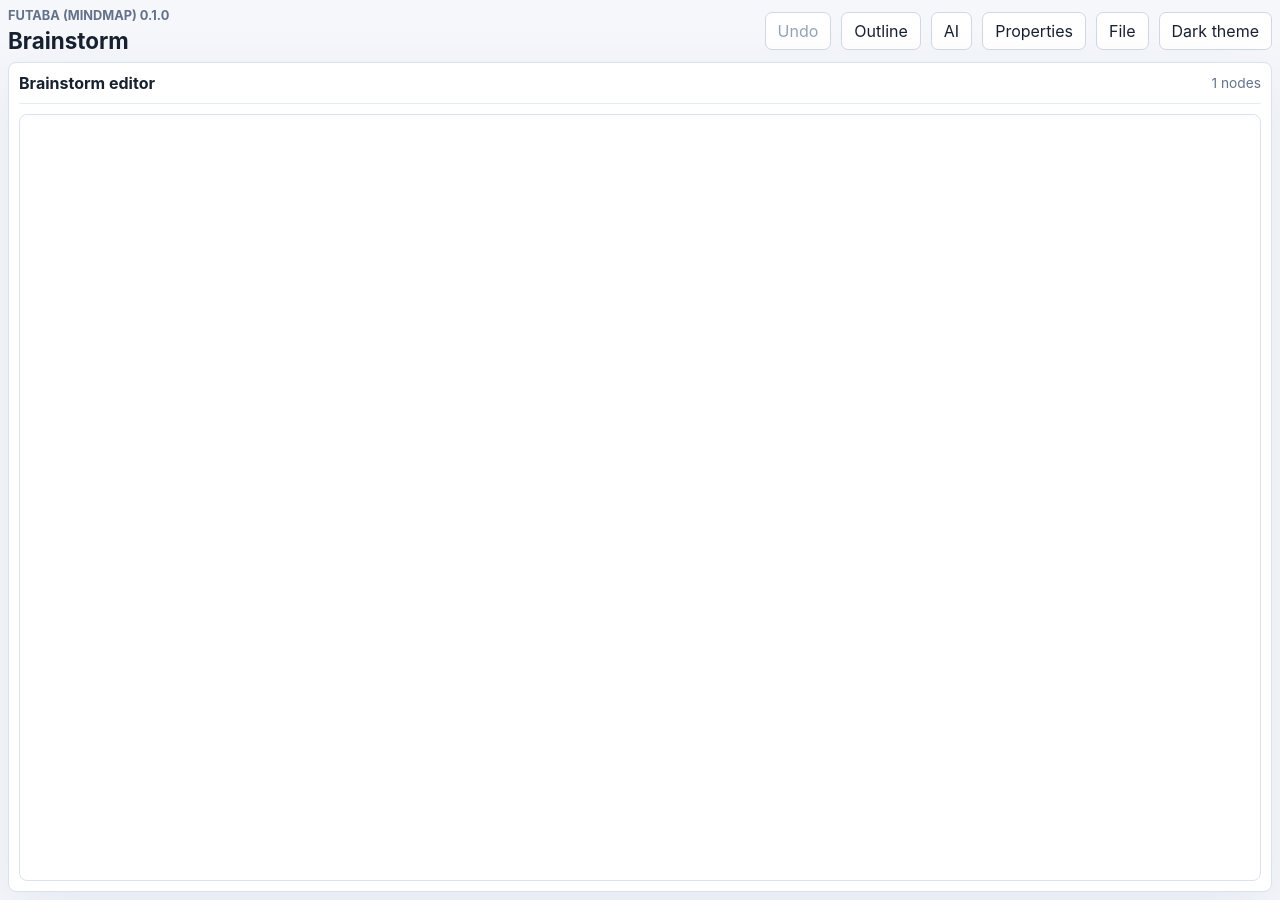
Test case: App › exposes Excalidraw export from the File menu
Click the button "File" at (1122, 31), box left=1096, top=12, right=1148, bottom=50
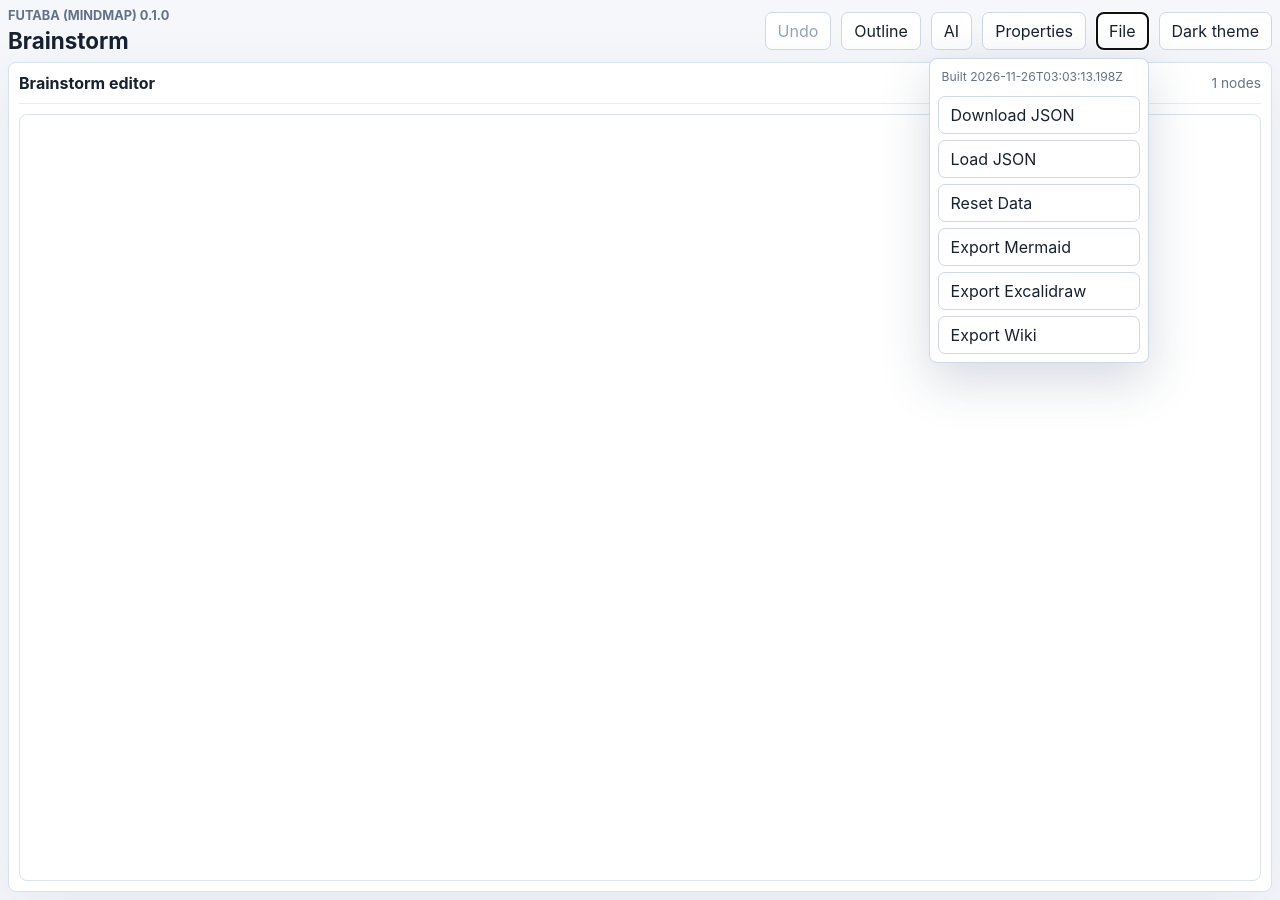
Now the menu named "File actions" is shown, box left=928, top=58, right=1148, bottom=363
Now the menu item "Export Excalidraw" is shown, box left=938, top=272, right=1140, bottom=310
